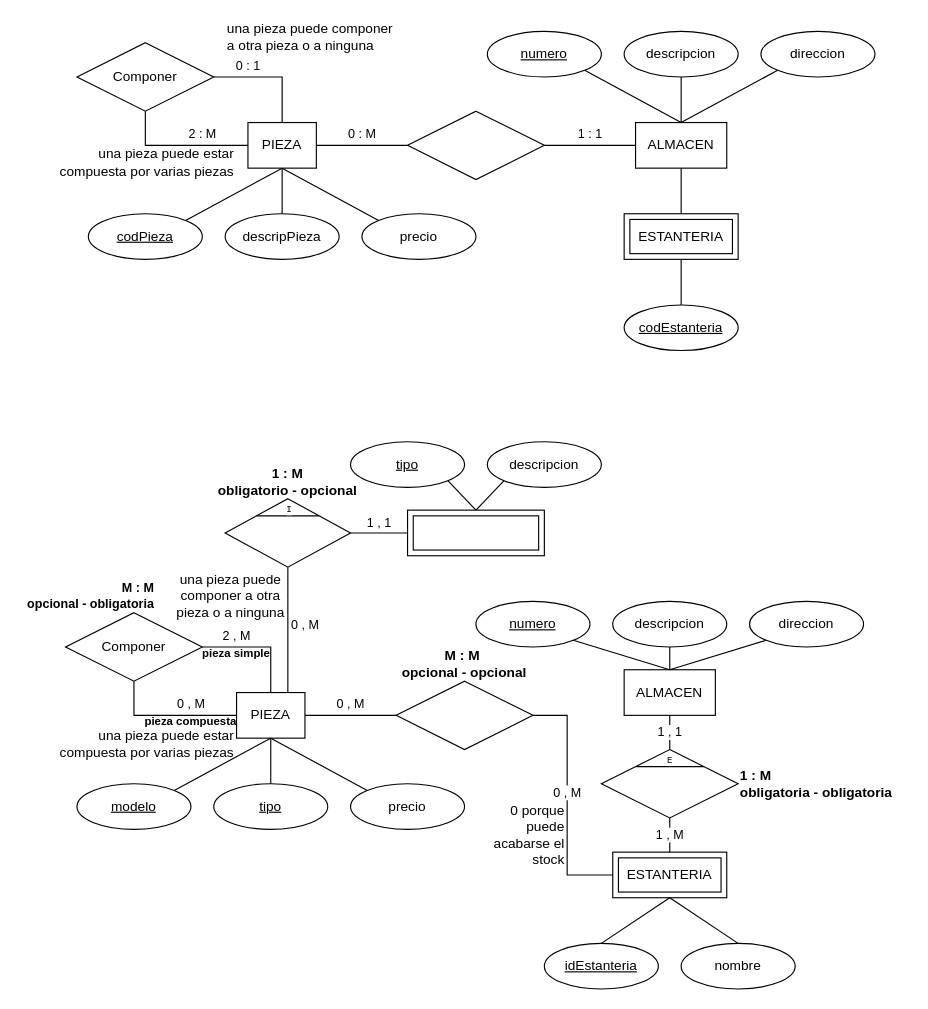
This 928x1009 diagram has some shape labels left out. Each missing label, with the centre of its shape:
"Almacenar" goes at pixel 464 715.
"Contener" goes at pixel 475 145.
"Identificar" goes at pixel 287 532.
"Tener" goes at pixel 669 783.
"TIPOS PIEZAS" goes at pixel 475 532.
